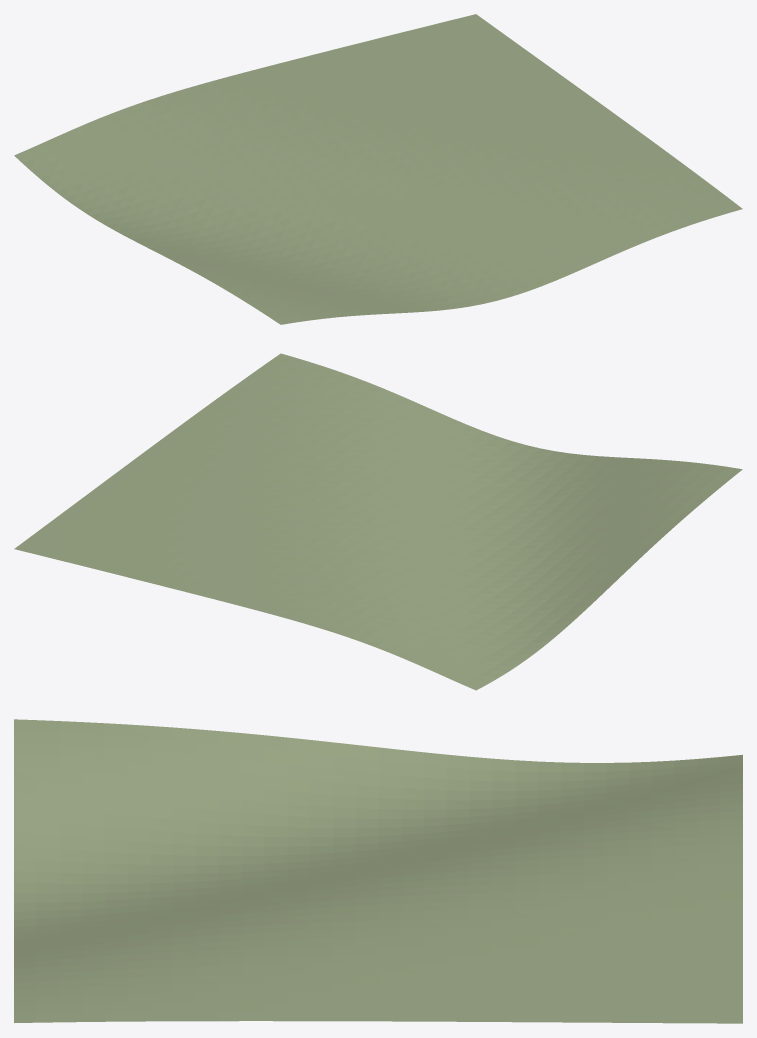
Rendered from desert-13-0.glb.
3 renders of one model, top to bottom at view 1: azimuth 30°, elevation 25°; view 2: azimuth 150°, elevation 25°; view 3: azimuth 270°, elevation 25°, orthographic. The views are drawn at different scales.
Visible parts, largest first — view 1: desert-13-0; view 2: desert-13-0; view 3: desert-13-0.
Part boxes in pixels (x1,y1,x2,y2): desert-13-0: (14,14,742,324); desert-13-0: (14,353,742,690); desert-13-0: (14,719,742,1023).
Bounding box in the file's own units: 512 × 38.67 × 512.
